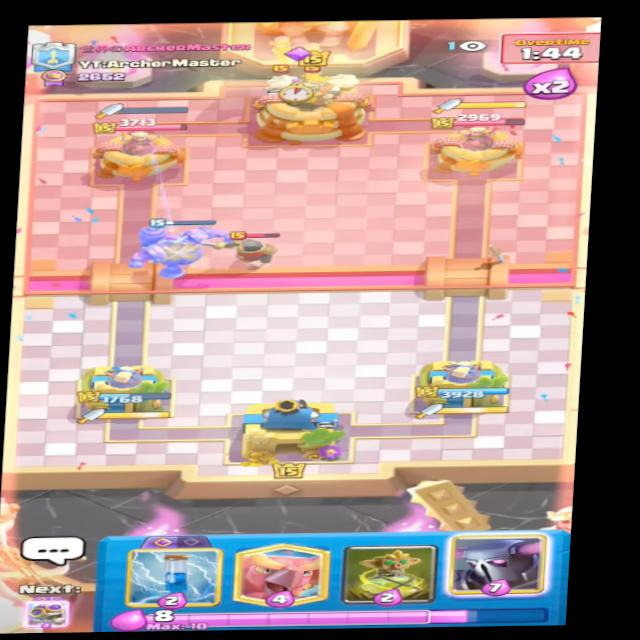knight: (220, 226, 292, 269)
